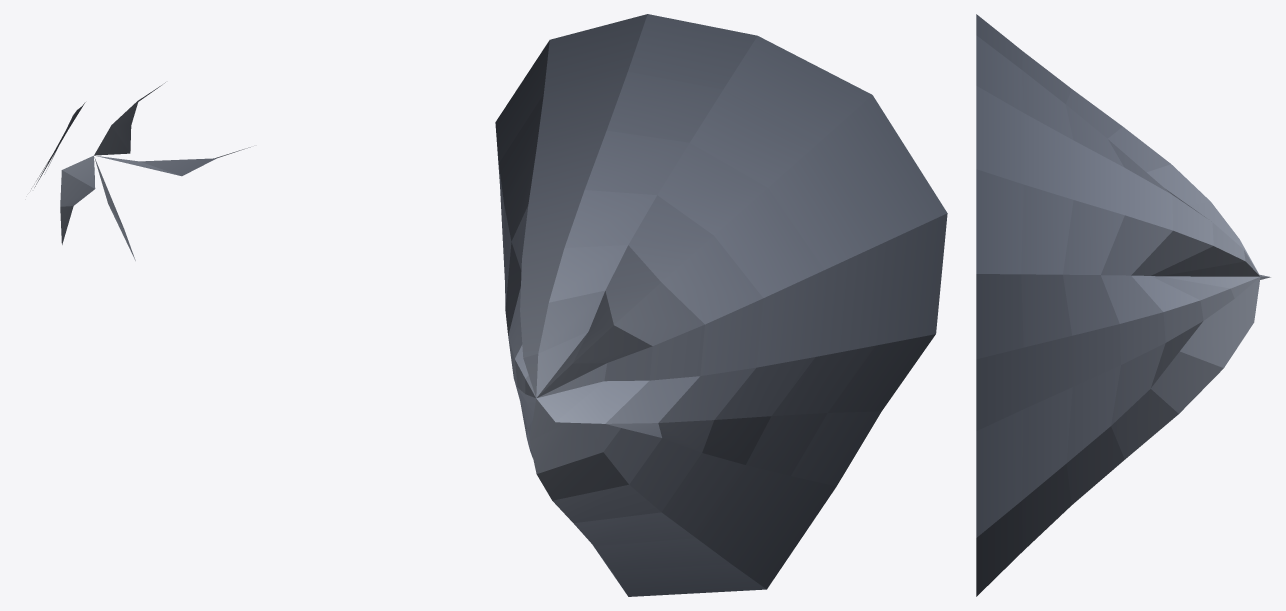
Rendered from rock_shore_a.glb.
The picture shows the model from 3 angles, left to right: view 1: azimuth 30°, elevation 25°; view 2: azimuth 150°, elevation 25°; view 3: azimuth 270°, elevation 25°; orthographic projection. The views are drawn at different scales.
Parts seen in each view (by area): view 1: rock_shore_a; view 2: rock_shore_a; view 3: rock_shore_a.
Boxes of the visible parts, <box> form: rock_shore_a: <box>31,82,250,260</box>; rock_shore_a: <box>495,14,947,596</box>; rock_shore_a: <box>976,14,1270,596</box>.
Size of the model in its own units: 0.9756 by 1.22 by 0.644.
